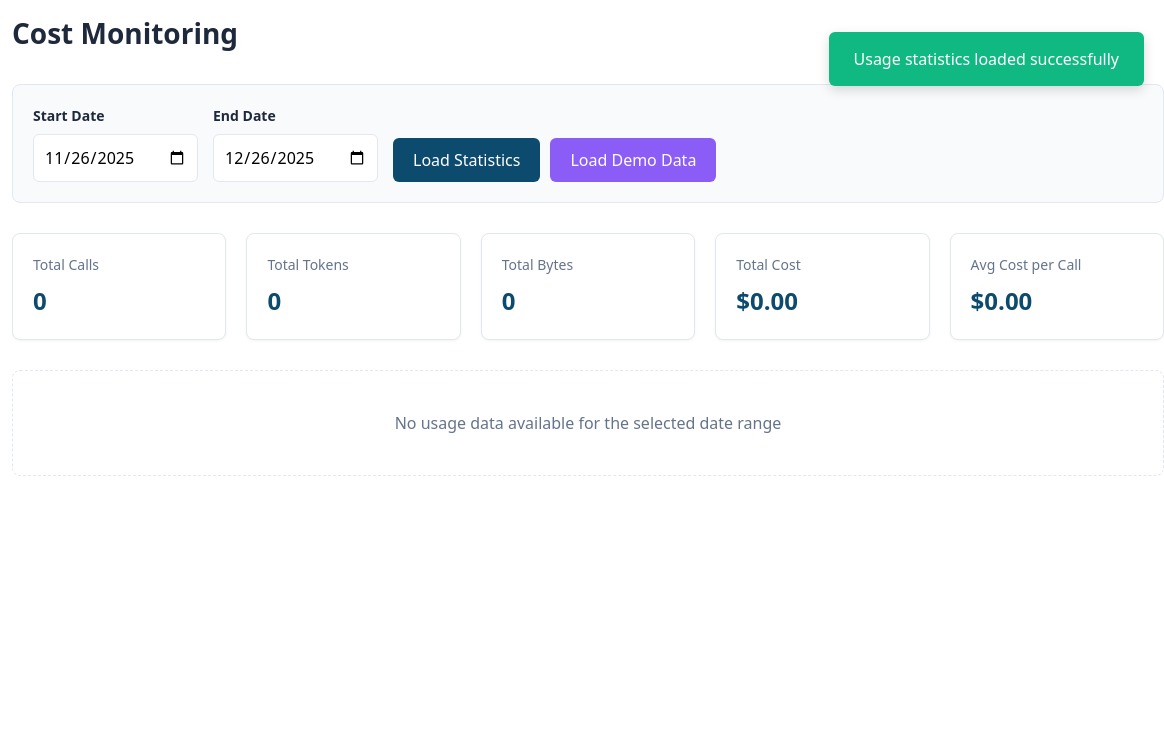
CostMonitoringPanel › fetches usage stats from API when Load Statistics is clicked
This screenshot has width=1164, height=732.
Click the button "Load Statistics".
click(467, 160)  # box [393,138,540,182]
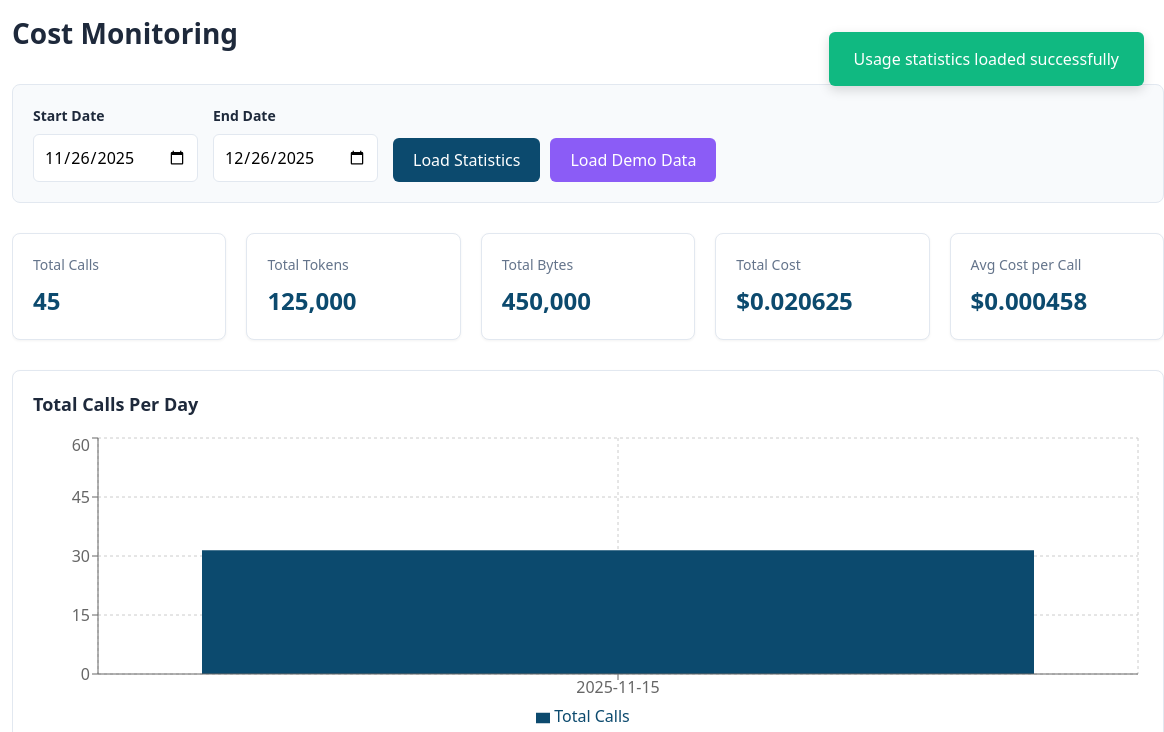
Expected: the text "45" is shown, [33,284,60,317]
